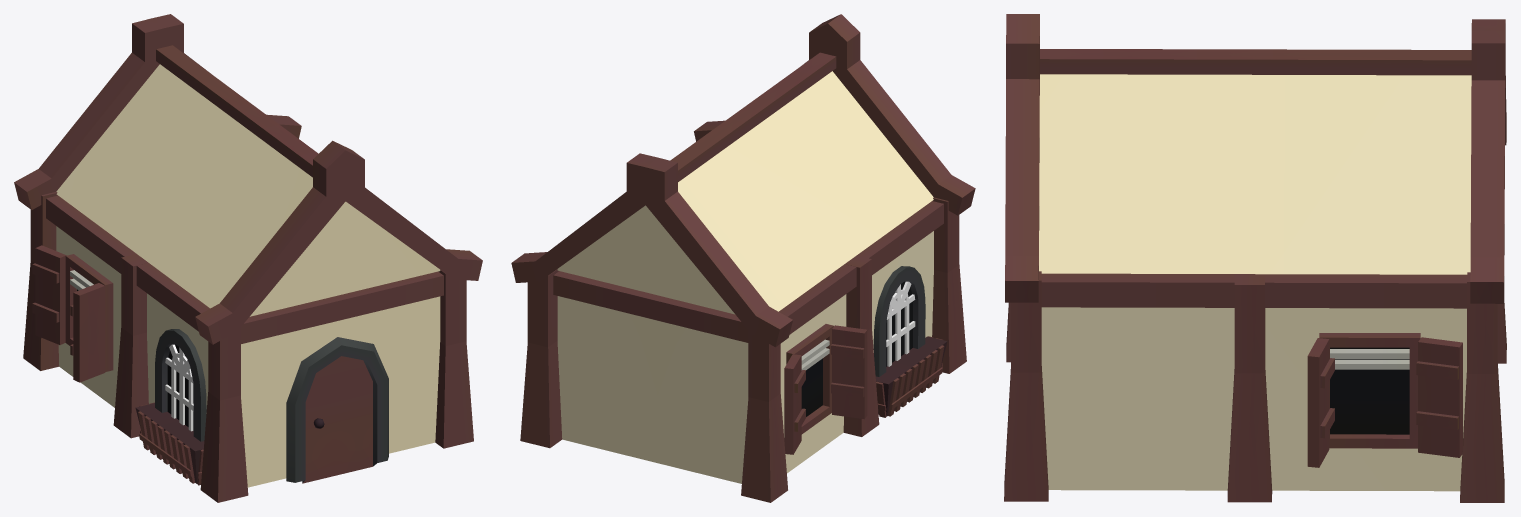
File: dom2.fbx
The picture shows the model from 3 angles, left to right: view 1: azimuth 30°, elevation 25°; view 2: azimuth 150°, elevation 25°; view 3: azimuth 270°, elevation 25°; orthographic projection. The views are drawn at different scales.
Visible parts, largest first — view 1: Cube.031, Cube.032, Torus.003, Cube.033, Cube.029, Cube.034, Cube.035, Cube.045, Cube.047; view 2: Cube.031, Cube.033, Cube.032, Cube.029, Cube.035, Torus.003, Cube.034, Cube.045, Cube.047; view 3: Cube.031, Cube.029, Cube.033, Cube.032, Cube.035, Cube.034.
Boxes of the visible parts, x1,y1,x2,y2 form: Cube.031: (46,64,443,487); Cube.032: (195,140,482,502); Torus.003: (155,329,388,483); Cube.033: (14,14,301,370); Cube.029: (32,245,113,382); Cube.034: (113,254,148,438); Cube.035: (156,45,318,177); Cube.045: (135,403,204,483); Cube.047: (138,411,195,483); Cube.031: (553,71,943,483); Cube.033: (511,153,792,502); Cube.032: (694,14,975,373); Cube.029: (784,324,867,454); Cube.035: (670,52,836,181); Torus.003: (873,266,925,376); Cube.034: (843,255,879,436); Cube.045: (875,336,947,416); Cube.047: (888,345,944,416); Cube.031: (1039,74,1471,491); Cube.029: (1307,333,1462,467); Cube.033: (1460,19,1506,502); Cube.032: (1004,14,1048,501); Cube.035: (1040,49,1471,75); Cube.034: (1227,274,1272,502).
Size of the model in its own units: 580 by 611 by 664.
